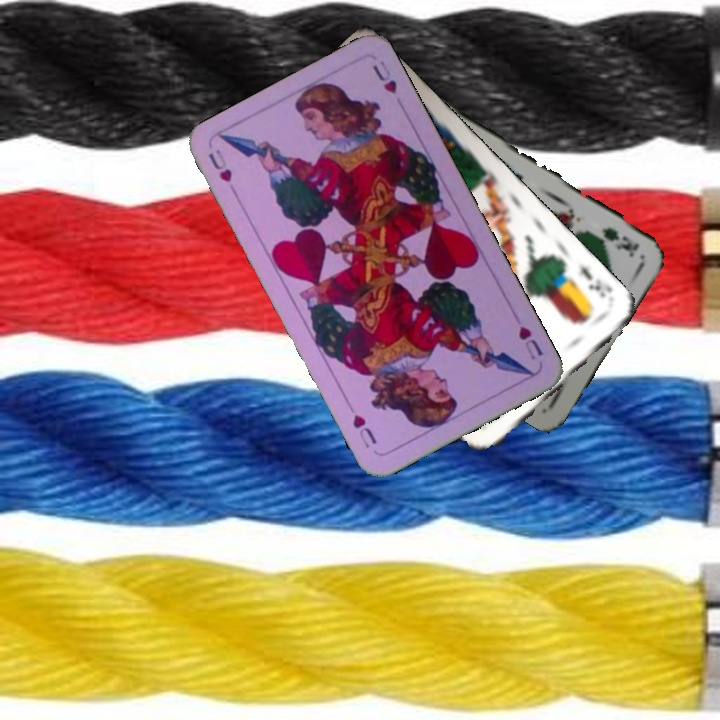EK: (575, 262, 615, 301)
GK: (598, 222, 642, 259)
HU: (204, 145, 241, 199), (514, 321, 546, 362)
